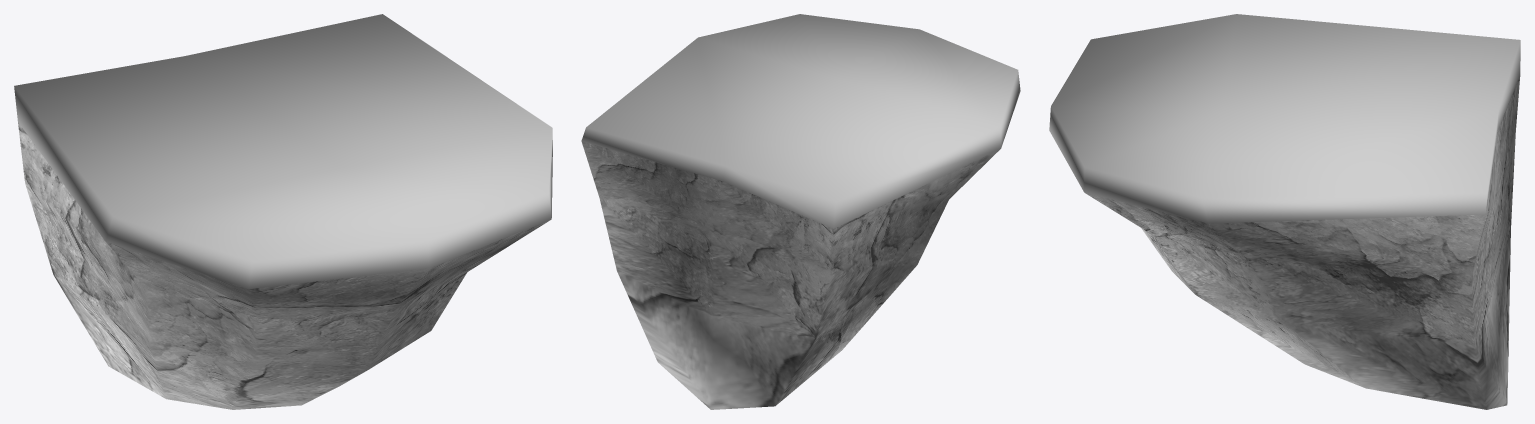
The model's file is Ledge_01.fbx.
The picture shows the model from 3 angles, left to right: view 1: azimuth 30°, elevation 25°; view 2: azimuth 150°, elevation 25°; view 3: azimuth 270°, elevation 25°; orthographic projection. The views are drawn at different scales.
Visible parts, largest first — view 1: Ledge_01; view 2: Ledge_01; view 3: Ledge_01.
Boxes of the visible parts, x1=… form: Ledge_01: x1=14, y1=14, x2=552, y2=409; Ledge_01: x1=581, y1=14, x2=1020, y2=409; Ledge_01: x1=1049, y1=14, x2=1520, y2=409.
Size of the model in its own units: 3680 by 2654 by 3917.
